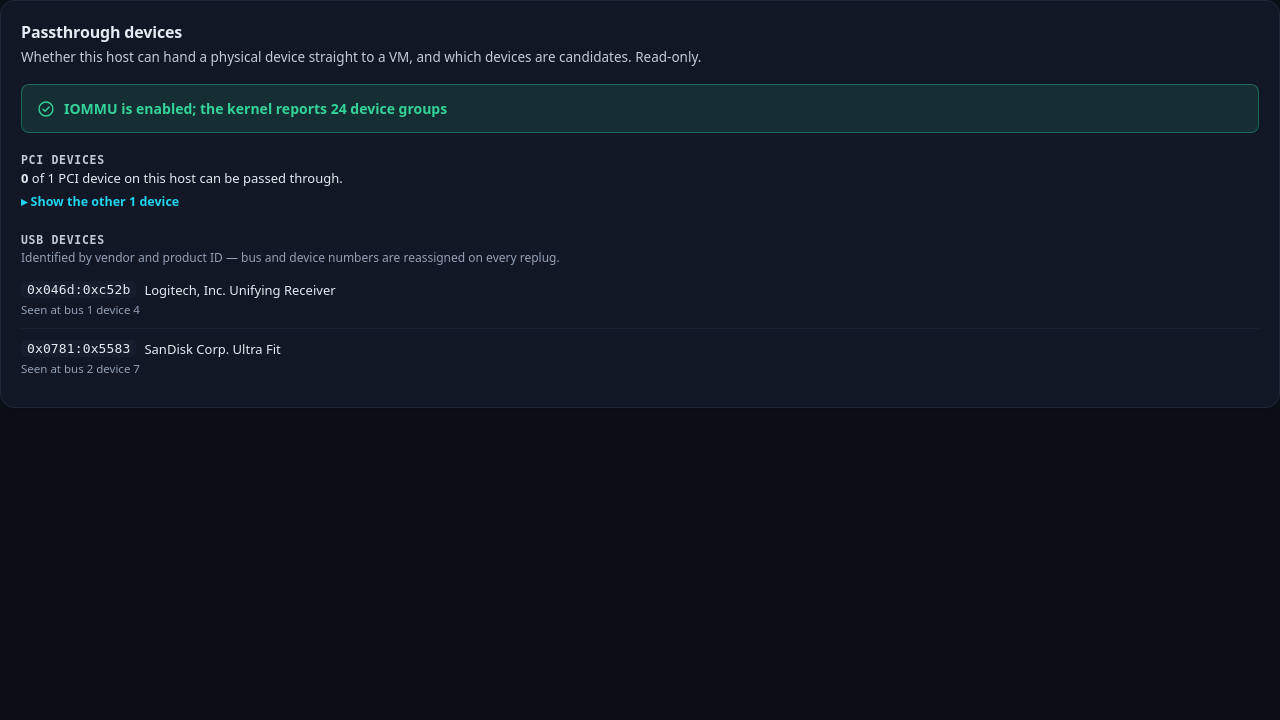
HostDevices › shows the reason next to unusable device 0000:00:00.0
The width and height of the screenshot is (1280, 720).
Expected: the heading "Passthrough devices" is shown, [21,21,182,43]
Expected: the text "IOMMU is enabled; the kernel reports 24 device groups" is shown, [64,99,447,118]
Click the button "▸ Show the other 1 device": click(100, 201) [21,193,179,210]
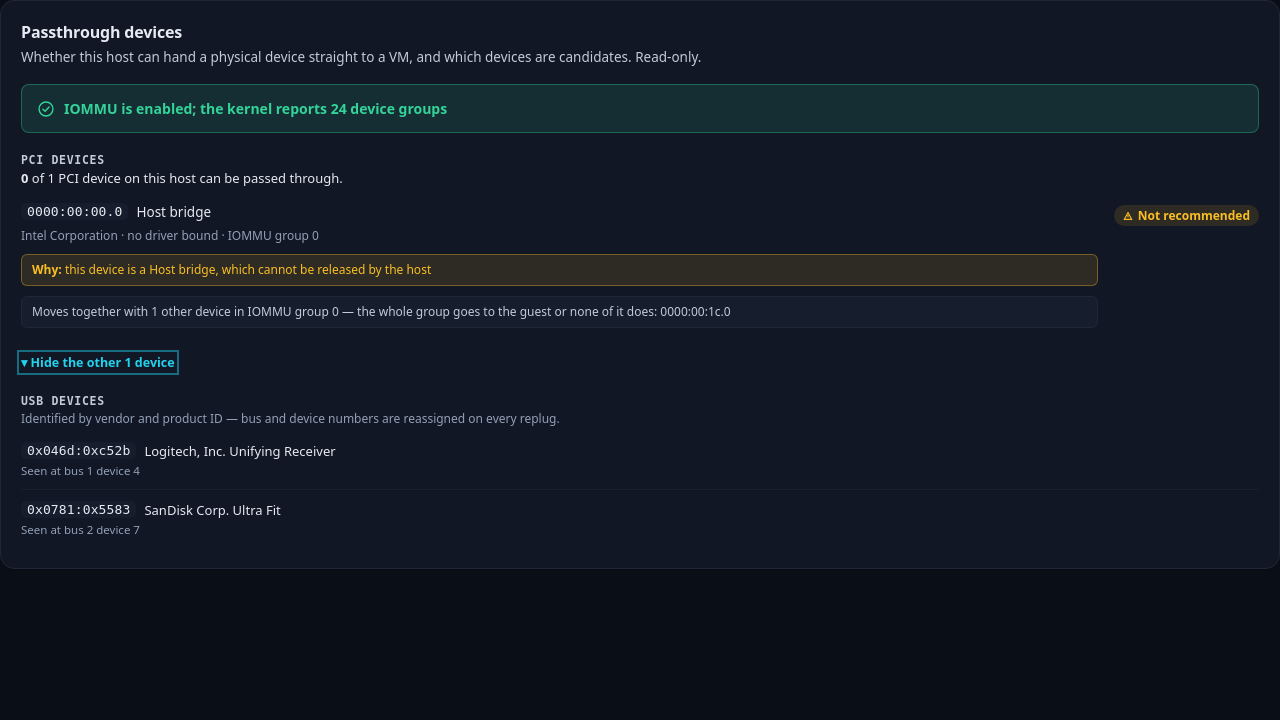
Expected: the text "this device is a Host bridge, which cannot be released by the host" is shown, [65,261,431,278]
Expected: the text "Not recommended" is shown, [1114,205,1259,226]
